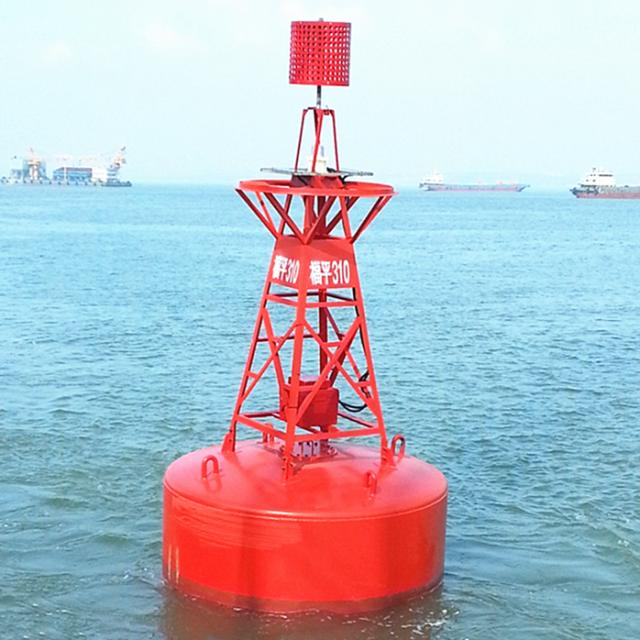buoy: (160, 16, 450, 610)
